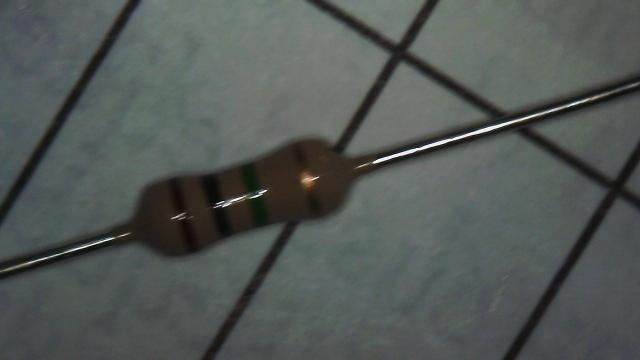black: (200, 174, 232, 238)
brown: (168, 178, 198, 252)
gold: (294, 144, 322, 216)
green: (240, 162, 270, 228)
resistor: (115, 105, 381, 284)
